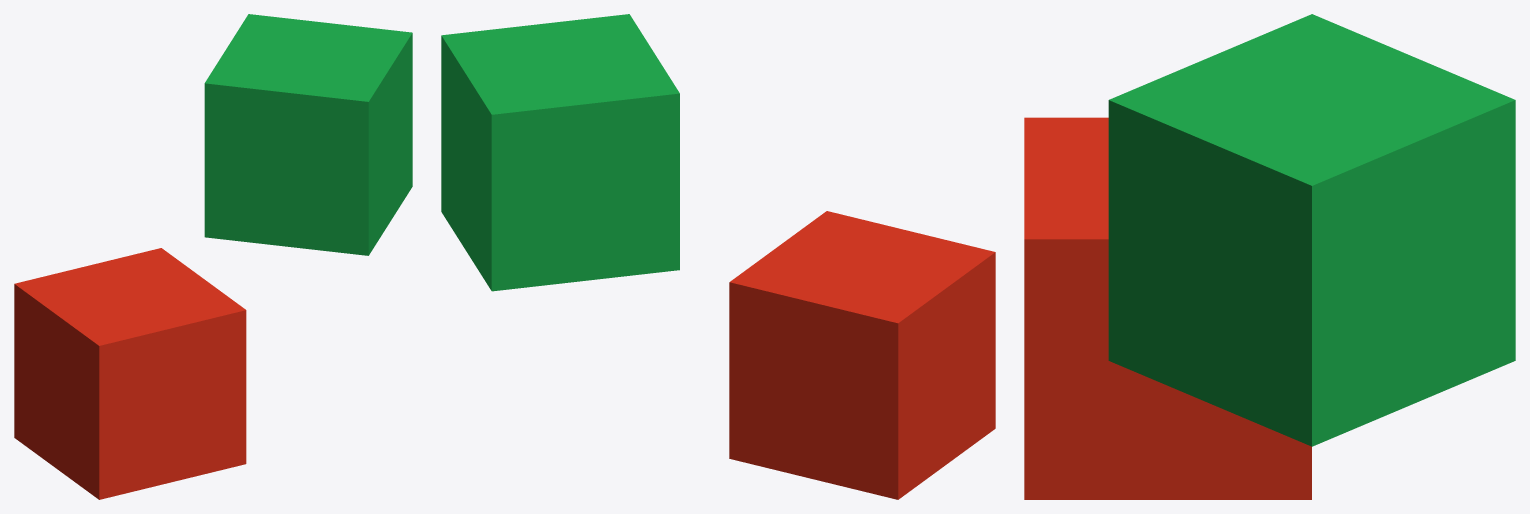
The model's file is assimp_ascii.fbx.
3 views of the same model, side by side, from view 1: azimuth 30°, elevation 25°; view 2: azimuth 150°, elevation 25°; view 3: azimuth 270°, elevation 25° (orthographic). The views are drawn at different scales.
Visible parts, largest first — view 1: Parent, Child; view 2: Parent, Child; view 3: Child, Parent.
Part boxes in pixels (box(x1,y1,x2,y2)): Parent: box(14, 248, 246, 499); Child: box(204, 14, 412, 255); Parent: box(729, 211, 995, 499); Child: box(441, 14, 679, 291); Child: box(1108, 14, 1515, 446); Parent: box(1024, 117, 1311, 499).
Size of the model in its own units: 541 by 400 by 341.
